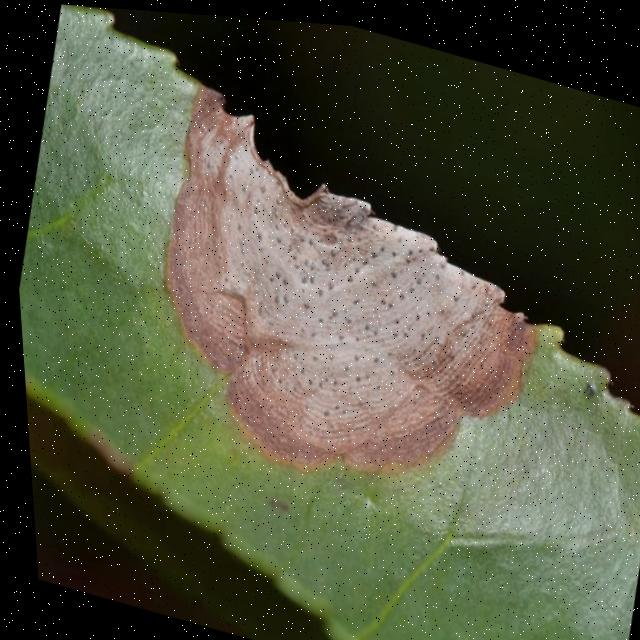Tea cloud leaf blight: (121, 66, 575, 514)
